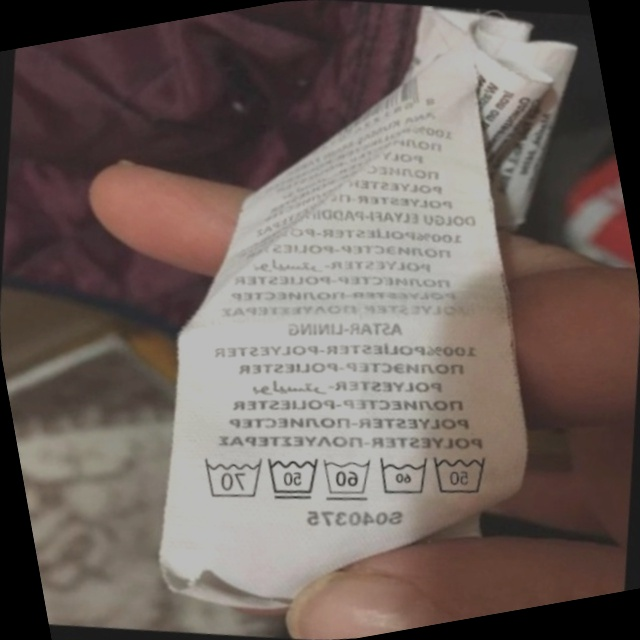50C: (418, 435, 502, 512), (253, 442, 330, 515)
60C: (308, 442, 382, 513), (365, 442, 439, 511)
70C: (187, 441, 272, 514)
